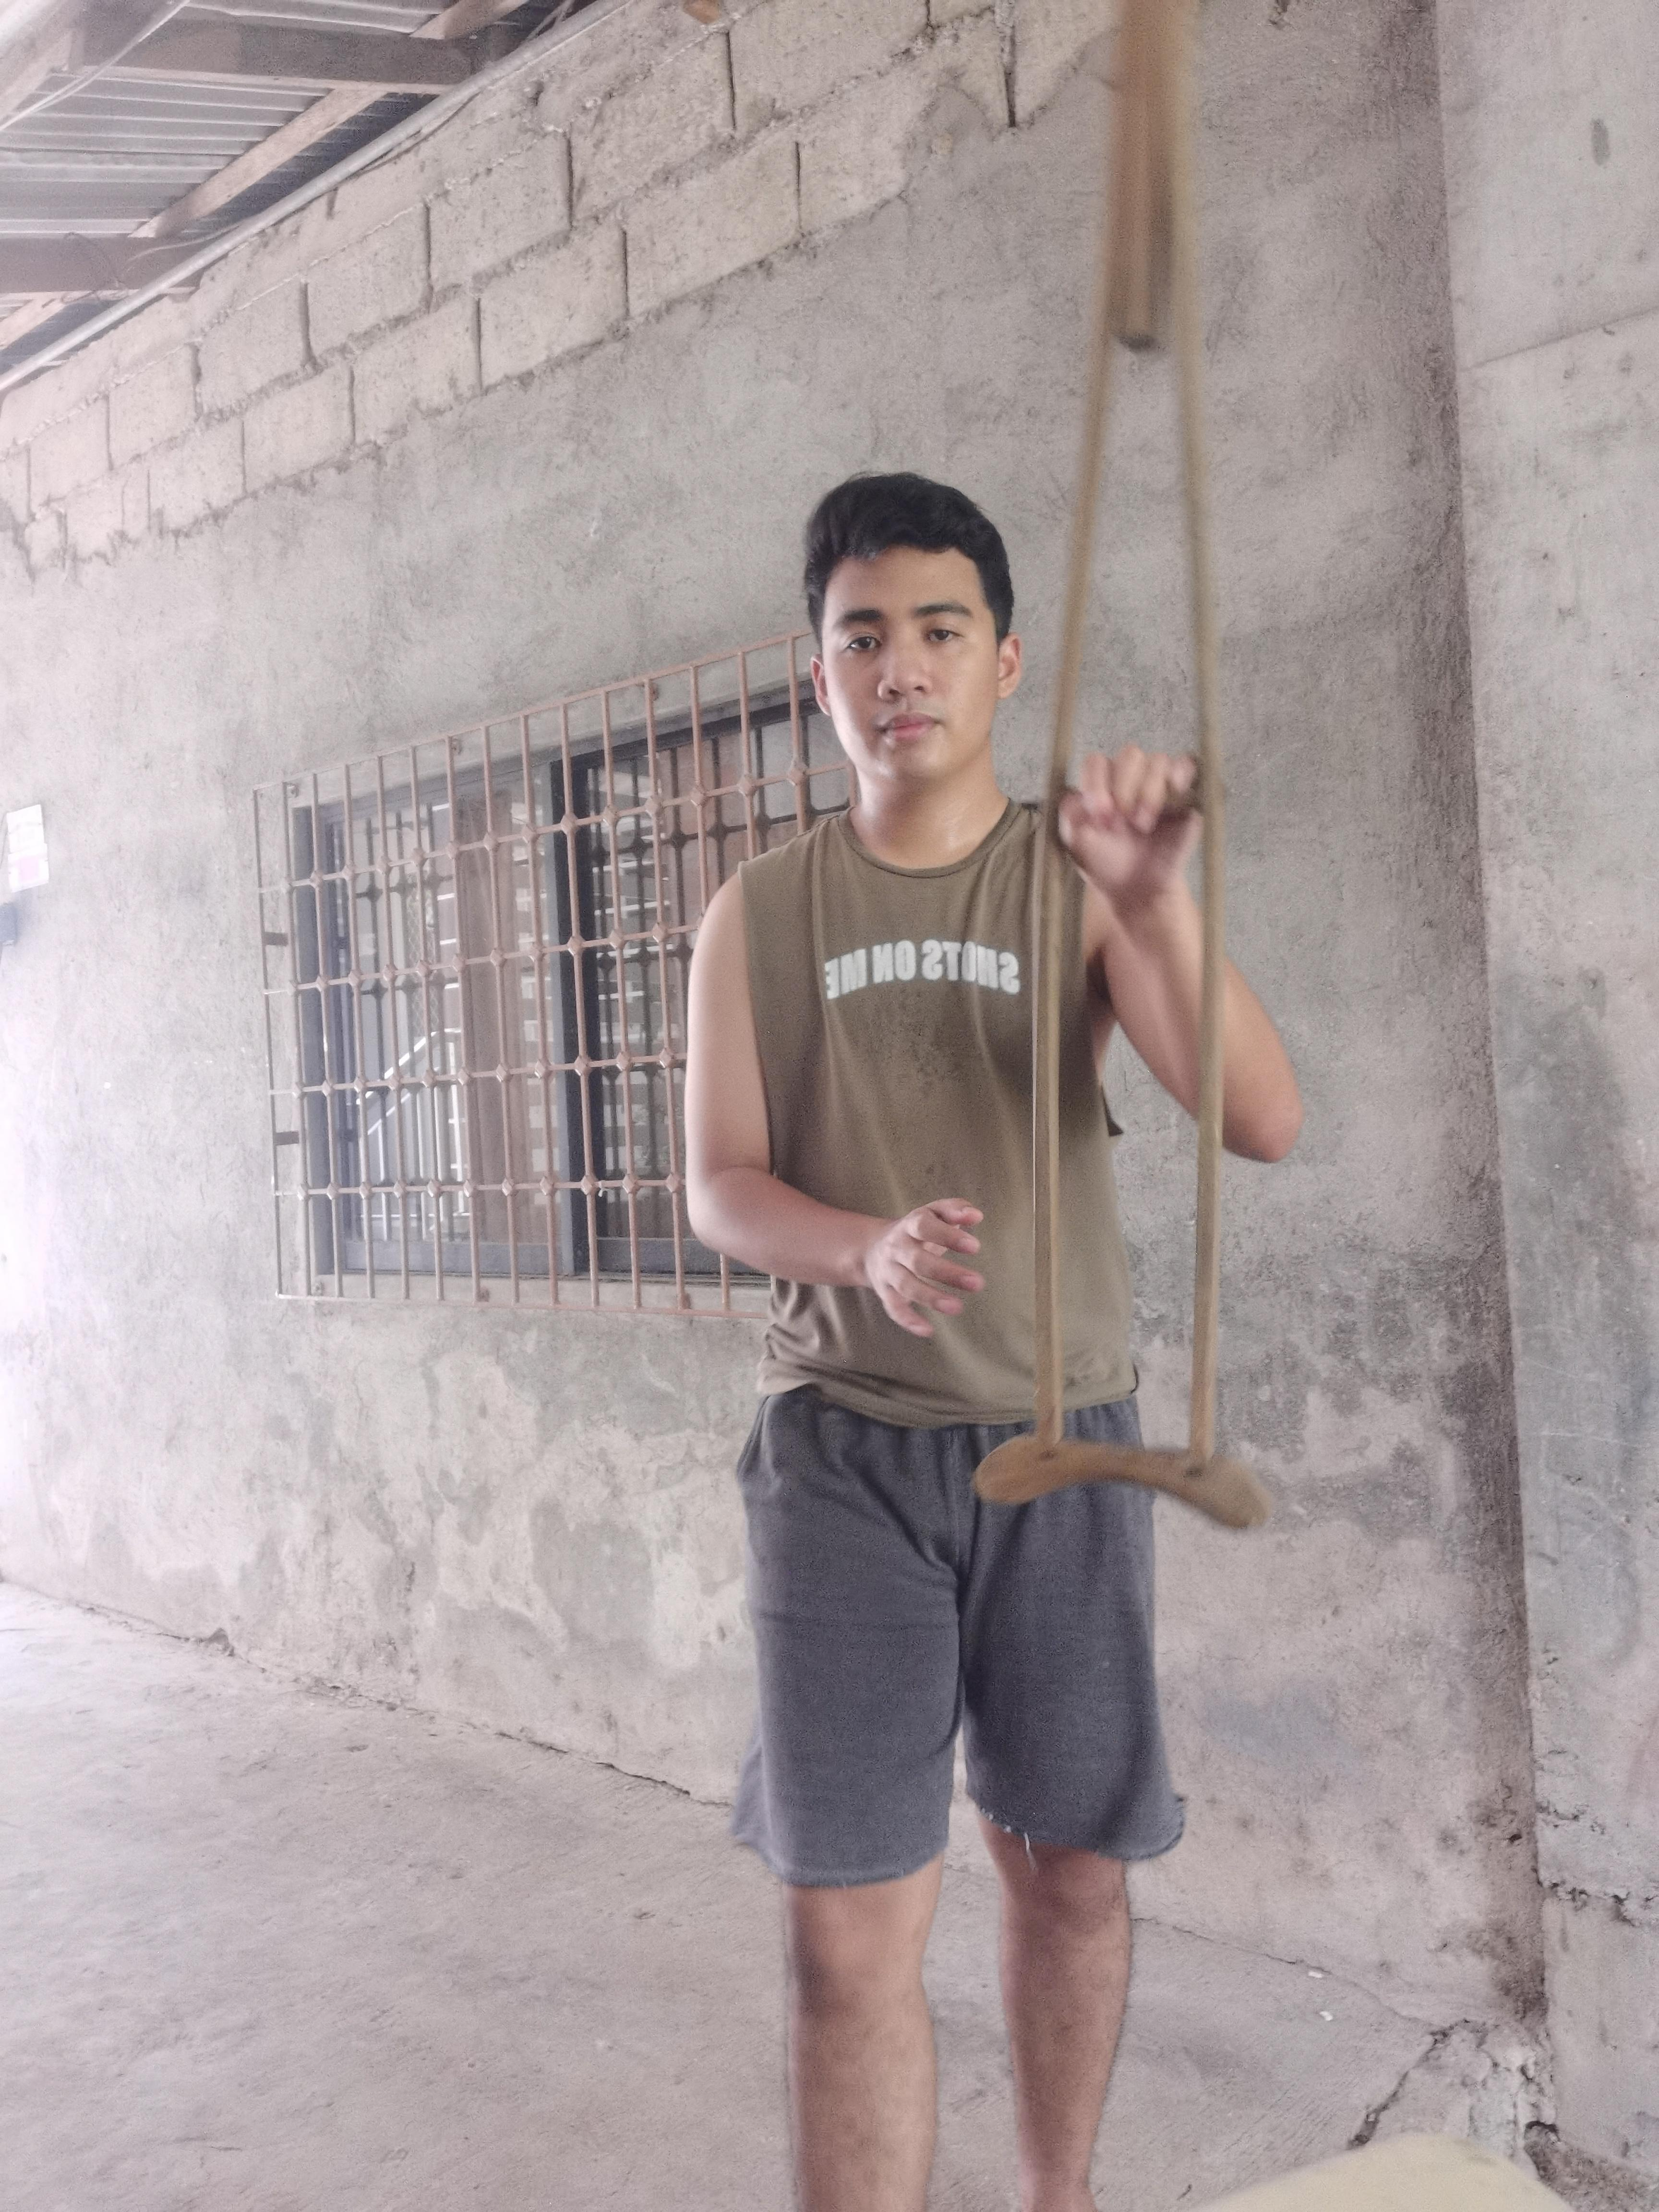crutches: (681, 0, 1303, 2212)
